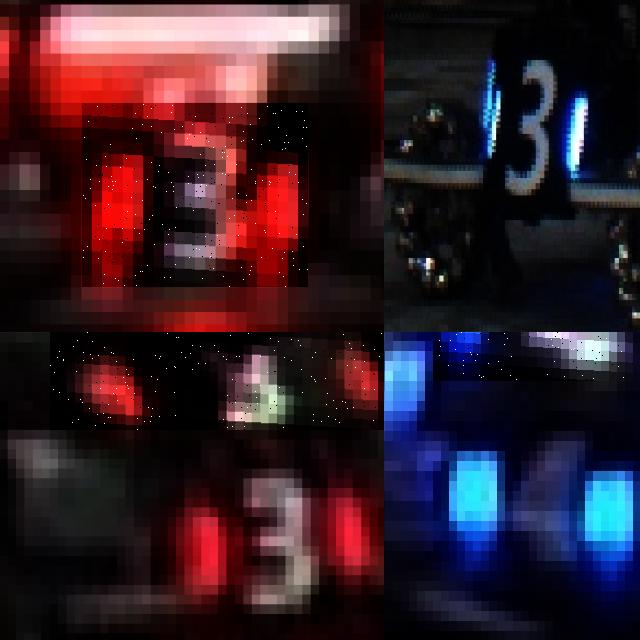B3: (488, 60, 586, 192)
B4: (441, 411, 640, 591), (433, 332, 640, 381)
R3: (82, 103, 308, 287), (150, 458, 384, 604), (49, 332, 384, 430)
